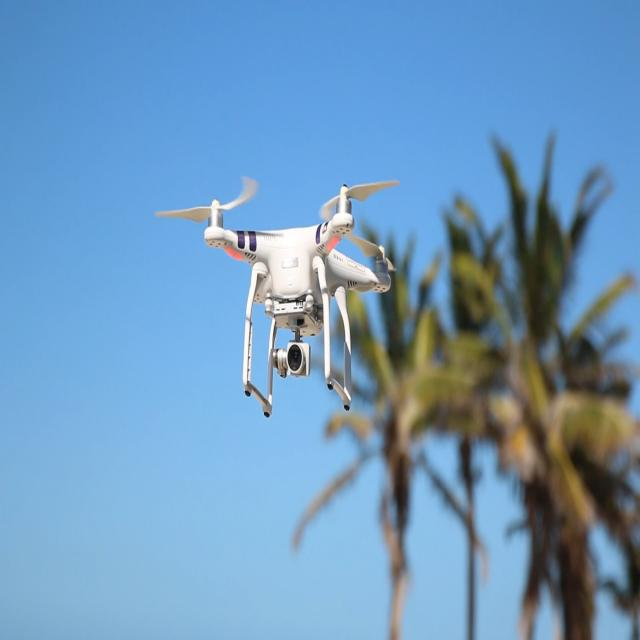Drone: (142, 151, 441, 422)
